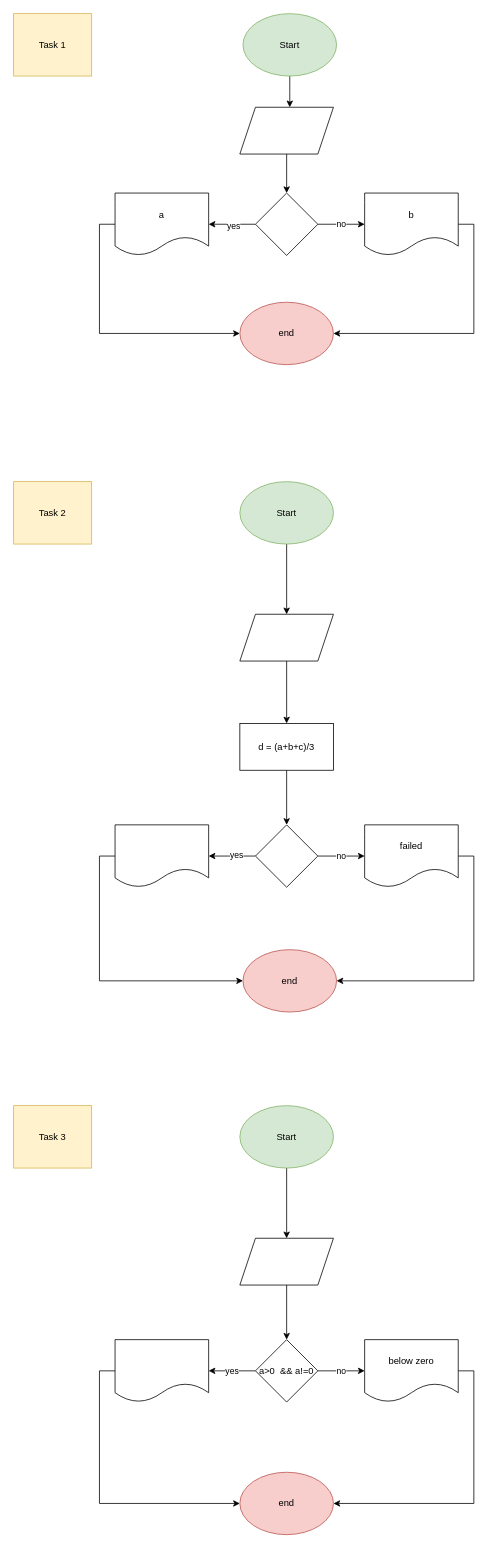
Image size: 494x1548. Some labels were removed from this diagram. The centre of each missing label's shape, as x and y in pixels:
"a ºC" goes at (x=286, y=1261).
"a, b" goes at (x=286, y=130).
"a, b, c" goes at (x=286, y=637).
"a>b && a!=b" goes at (x=286, y=223).
"above zero" goes at (x=161, y=1370).
"d>60" goes at (x=286, y=855).
"passed" goes at (x=161, y=855).
